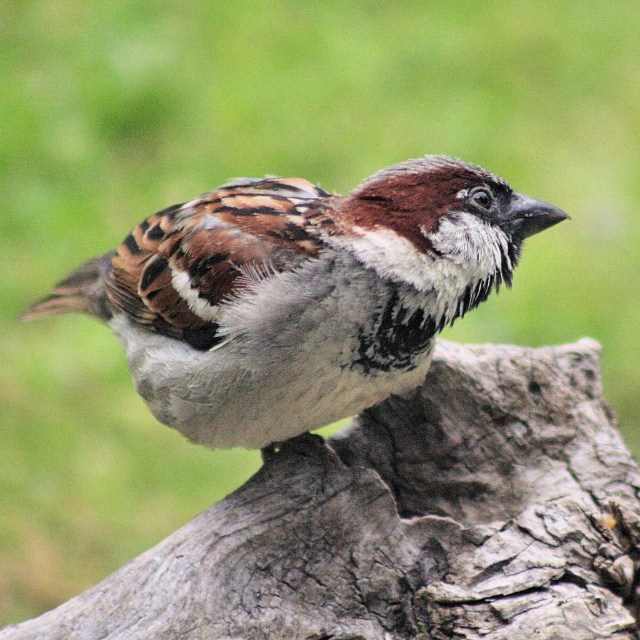Sparrow: (16, 150, 572, 462)
